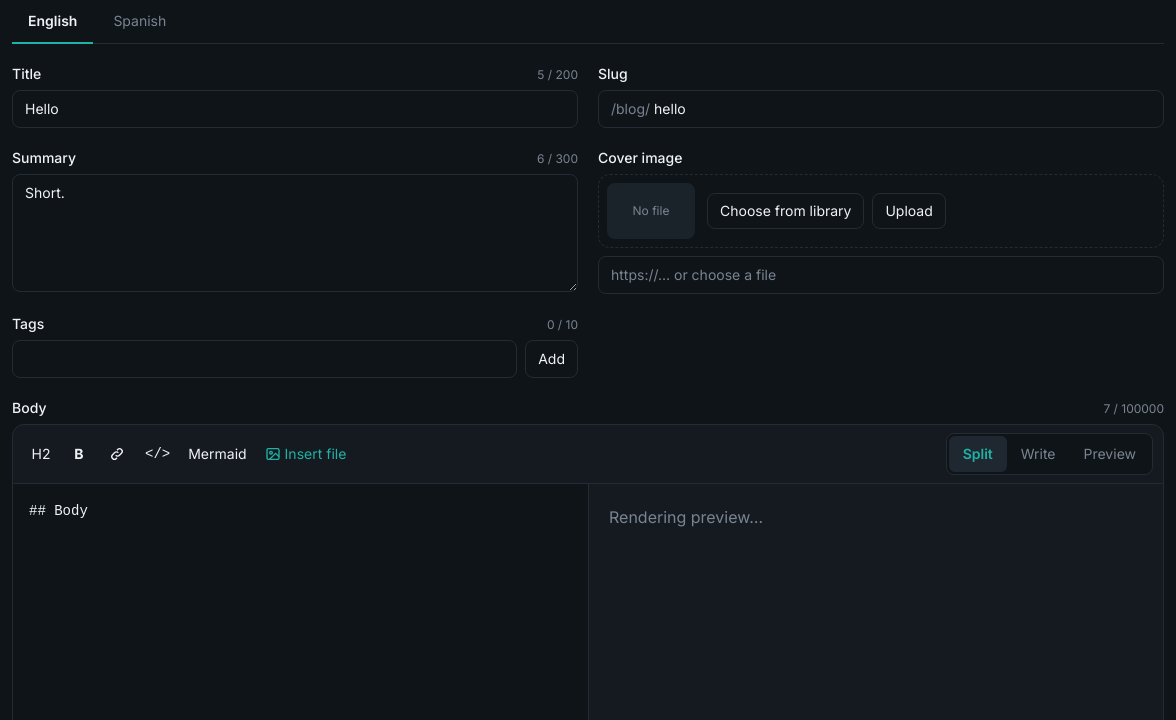
ItemForm publish flow › saving a published post checks the publish rules
Clear the text box labelled "Summary". click: (295, 233)
box: [12,174,578,292]
(page scrolled)
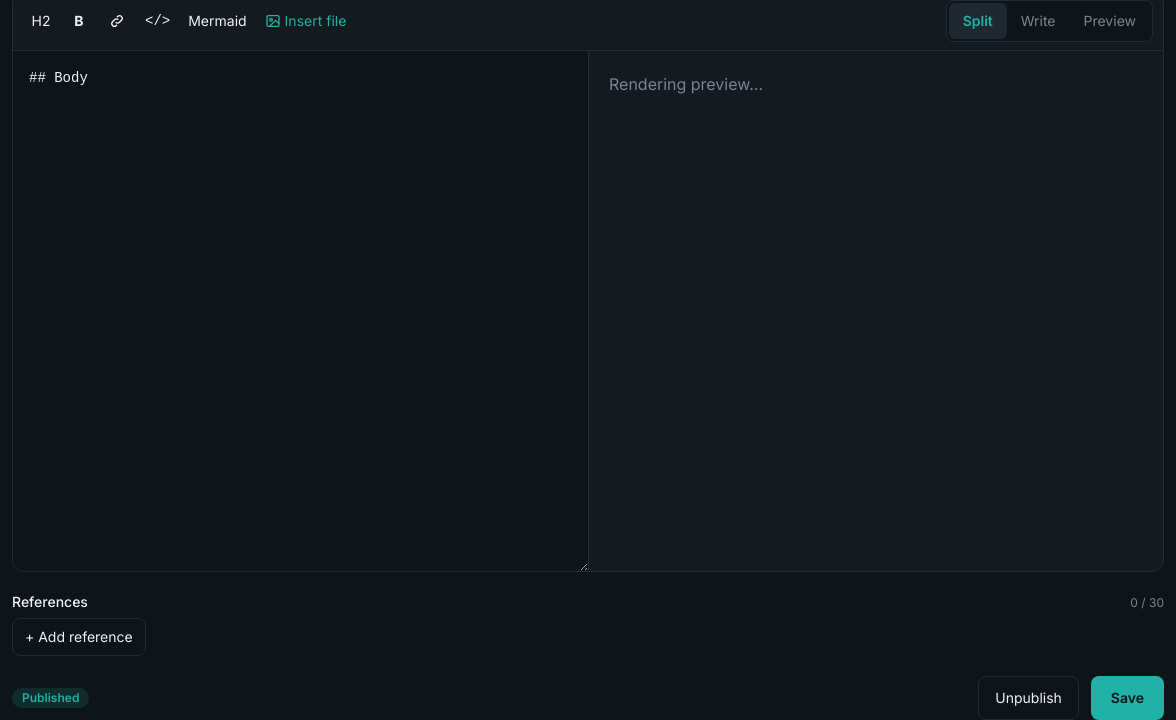
Click the button "Save". click: (1127, 698)
box: [1091,676,1164,719]
(page scrolled)
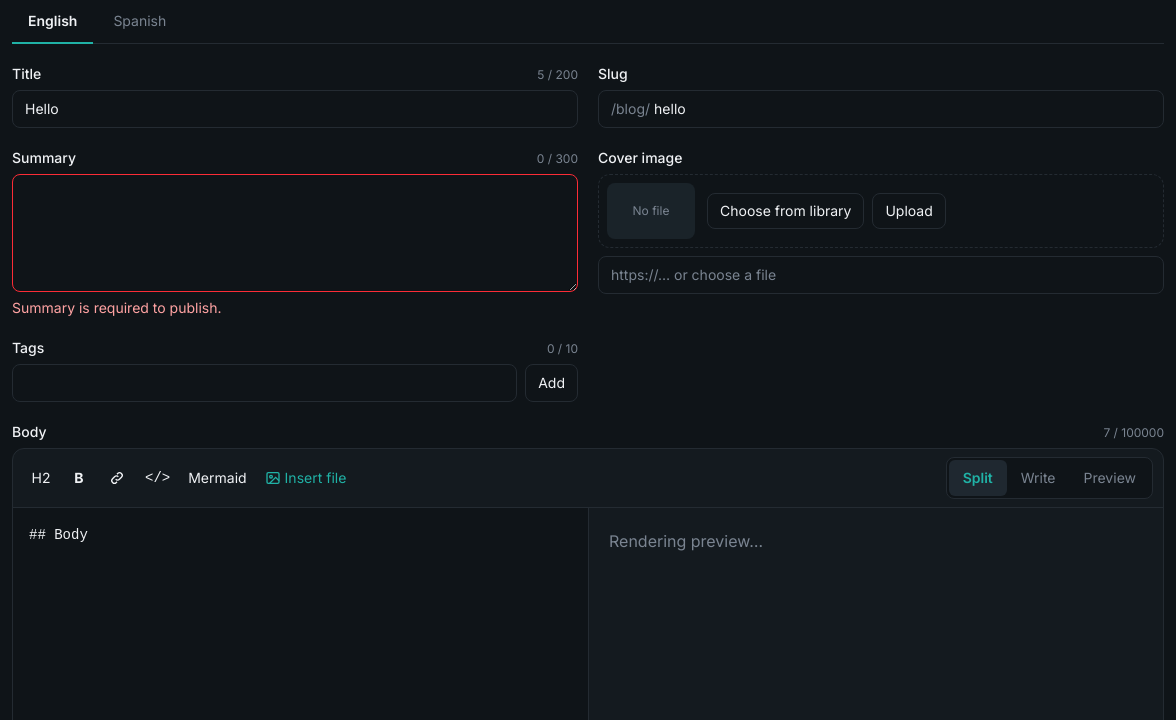
expect the text "Summary is required to publish." is shown: met, box [12,299,222,316]
